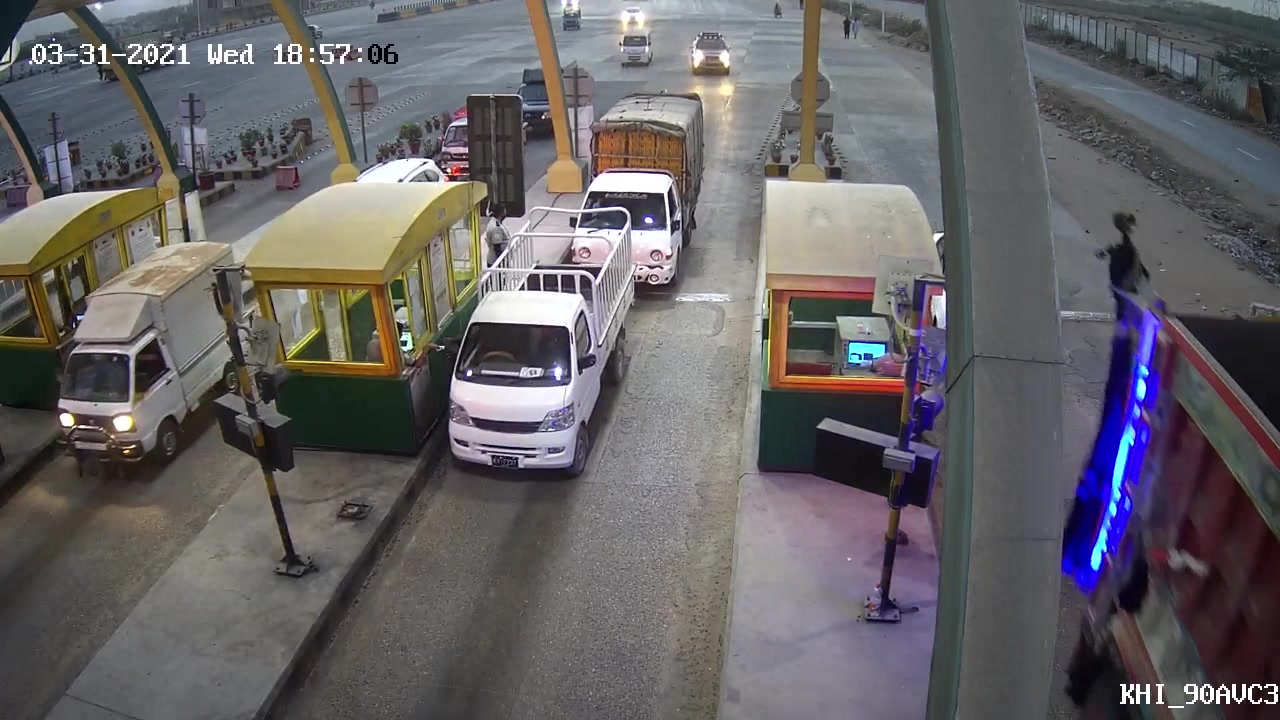F2: (434, 210, 636, 475), (570, 90, 714, 295)
